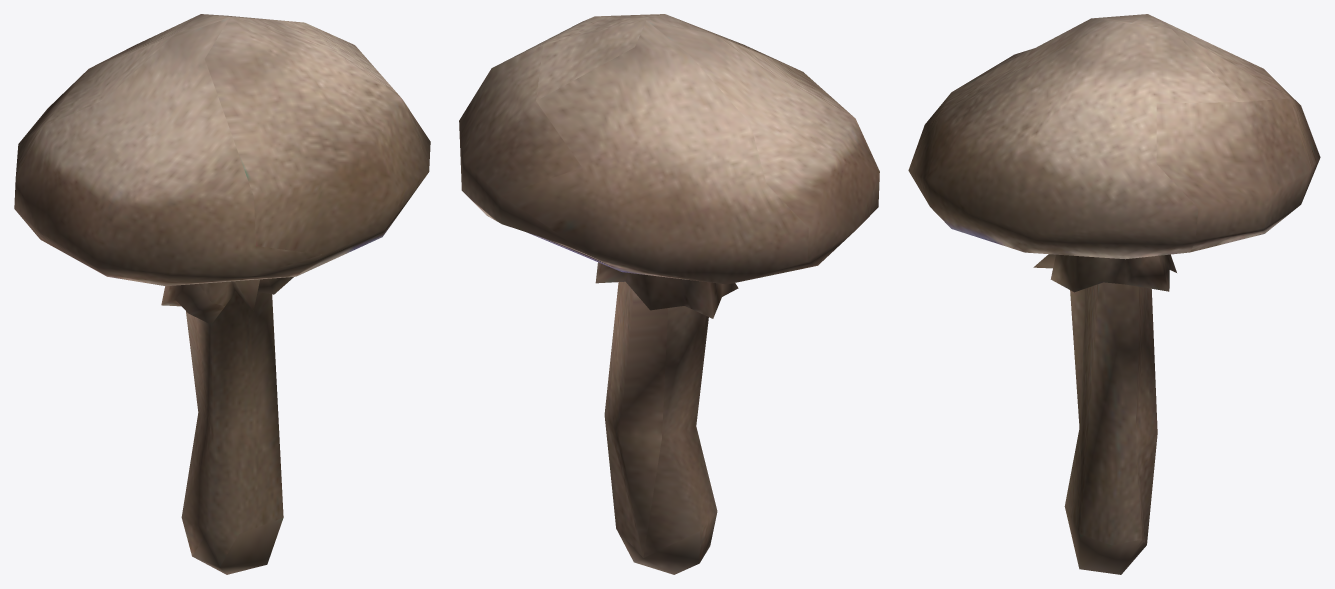
File: fungus-tan-c.gltf
3 views of the same model, side by side, from view 1: azimuth 30°, elevation 25°; view 2: azimuth 150°, elevation 25°; view 3: azimuth 270°, elevation 25° (orthographic). The views are drawn at different scales.
Visible parts, largest first — view 1: fungus-tan-c; view 2: fungus-tan-c; view 3: fungus-tan-c.
Boxes of the visible parts, bbox=[...] form: fungus-tan-c: bbox=[14, 14, 430, 574]; fungus-tan-c: bbox=[459, 14, 879, 574]; fungus-tan-c: bbox=[908, 14, 1320, 574].
Bounding box in the file's own units: 0.3849 × 0.5499 × 0.3715.
Materials: 1 (1 with a texture image).
